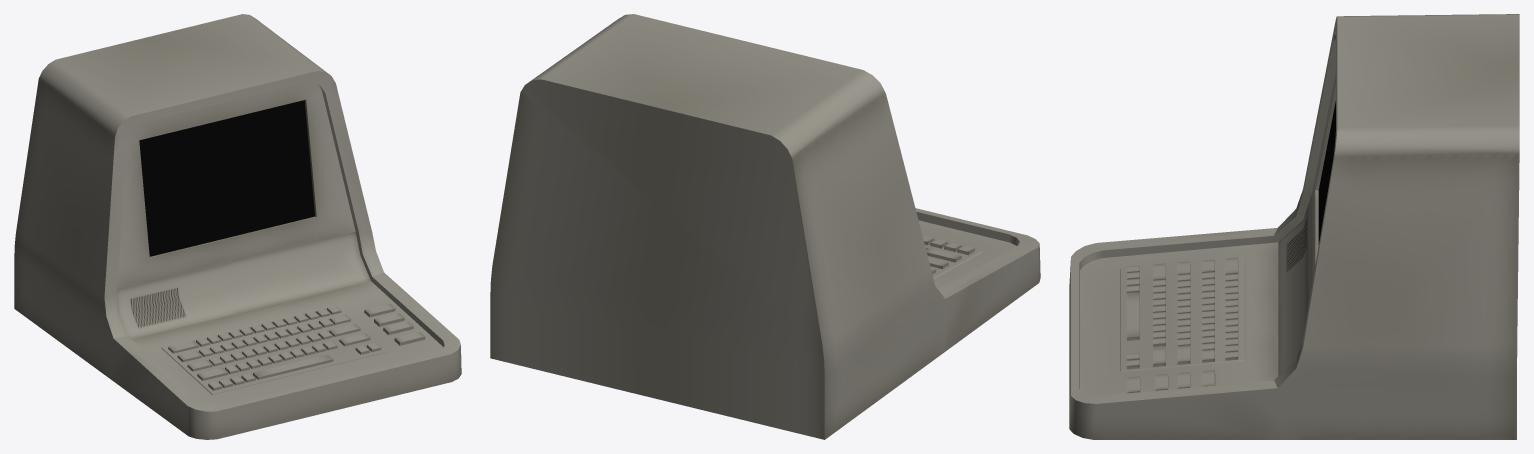
3 views of the same model, side by side, from view 1: azimuth 30°, elevation 25°; view 2: azimuth 150°, elevation 25°; view 3: azimuth 270°, elevation 25° (orthographic). The views are drawn at different scales.
Parts seen in each view (by area): view 1: PC_Mesh PC_Mesh_grp; view 2: PC_Mesh PC_Mesh_grp; view 3: PC_Mesh PC_Mesh_grp.
Part boxes in pixels (x1,y1,x2,y2): PC_Mesh PC_Mesh_grp: [14, 14, 461, 439]; PC_Mesh PC_Mesh_grp: [490, 14, 1040, 439]; PC_Mesh PC_Mesh_grp: [1069, 14, 1519, 439].
Bounding box in the file's own units: 2.09 × 1.75 × 2.47.
Materials: 1 (1 with a texture image).
